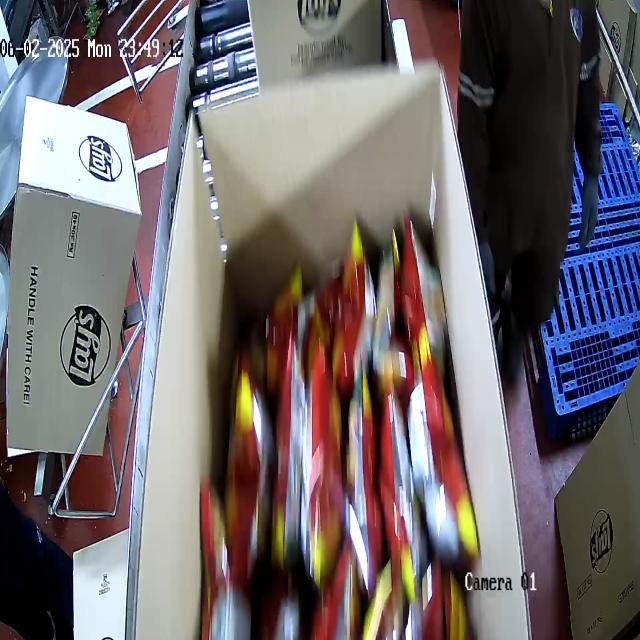MASALA: (220, 253, 461, 640)
